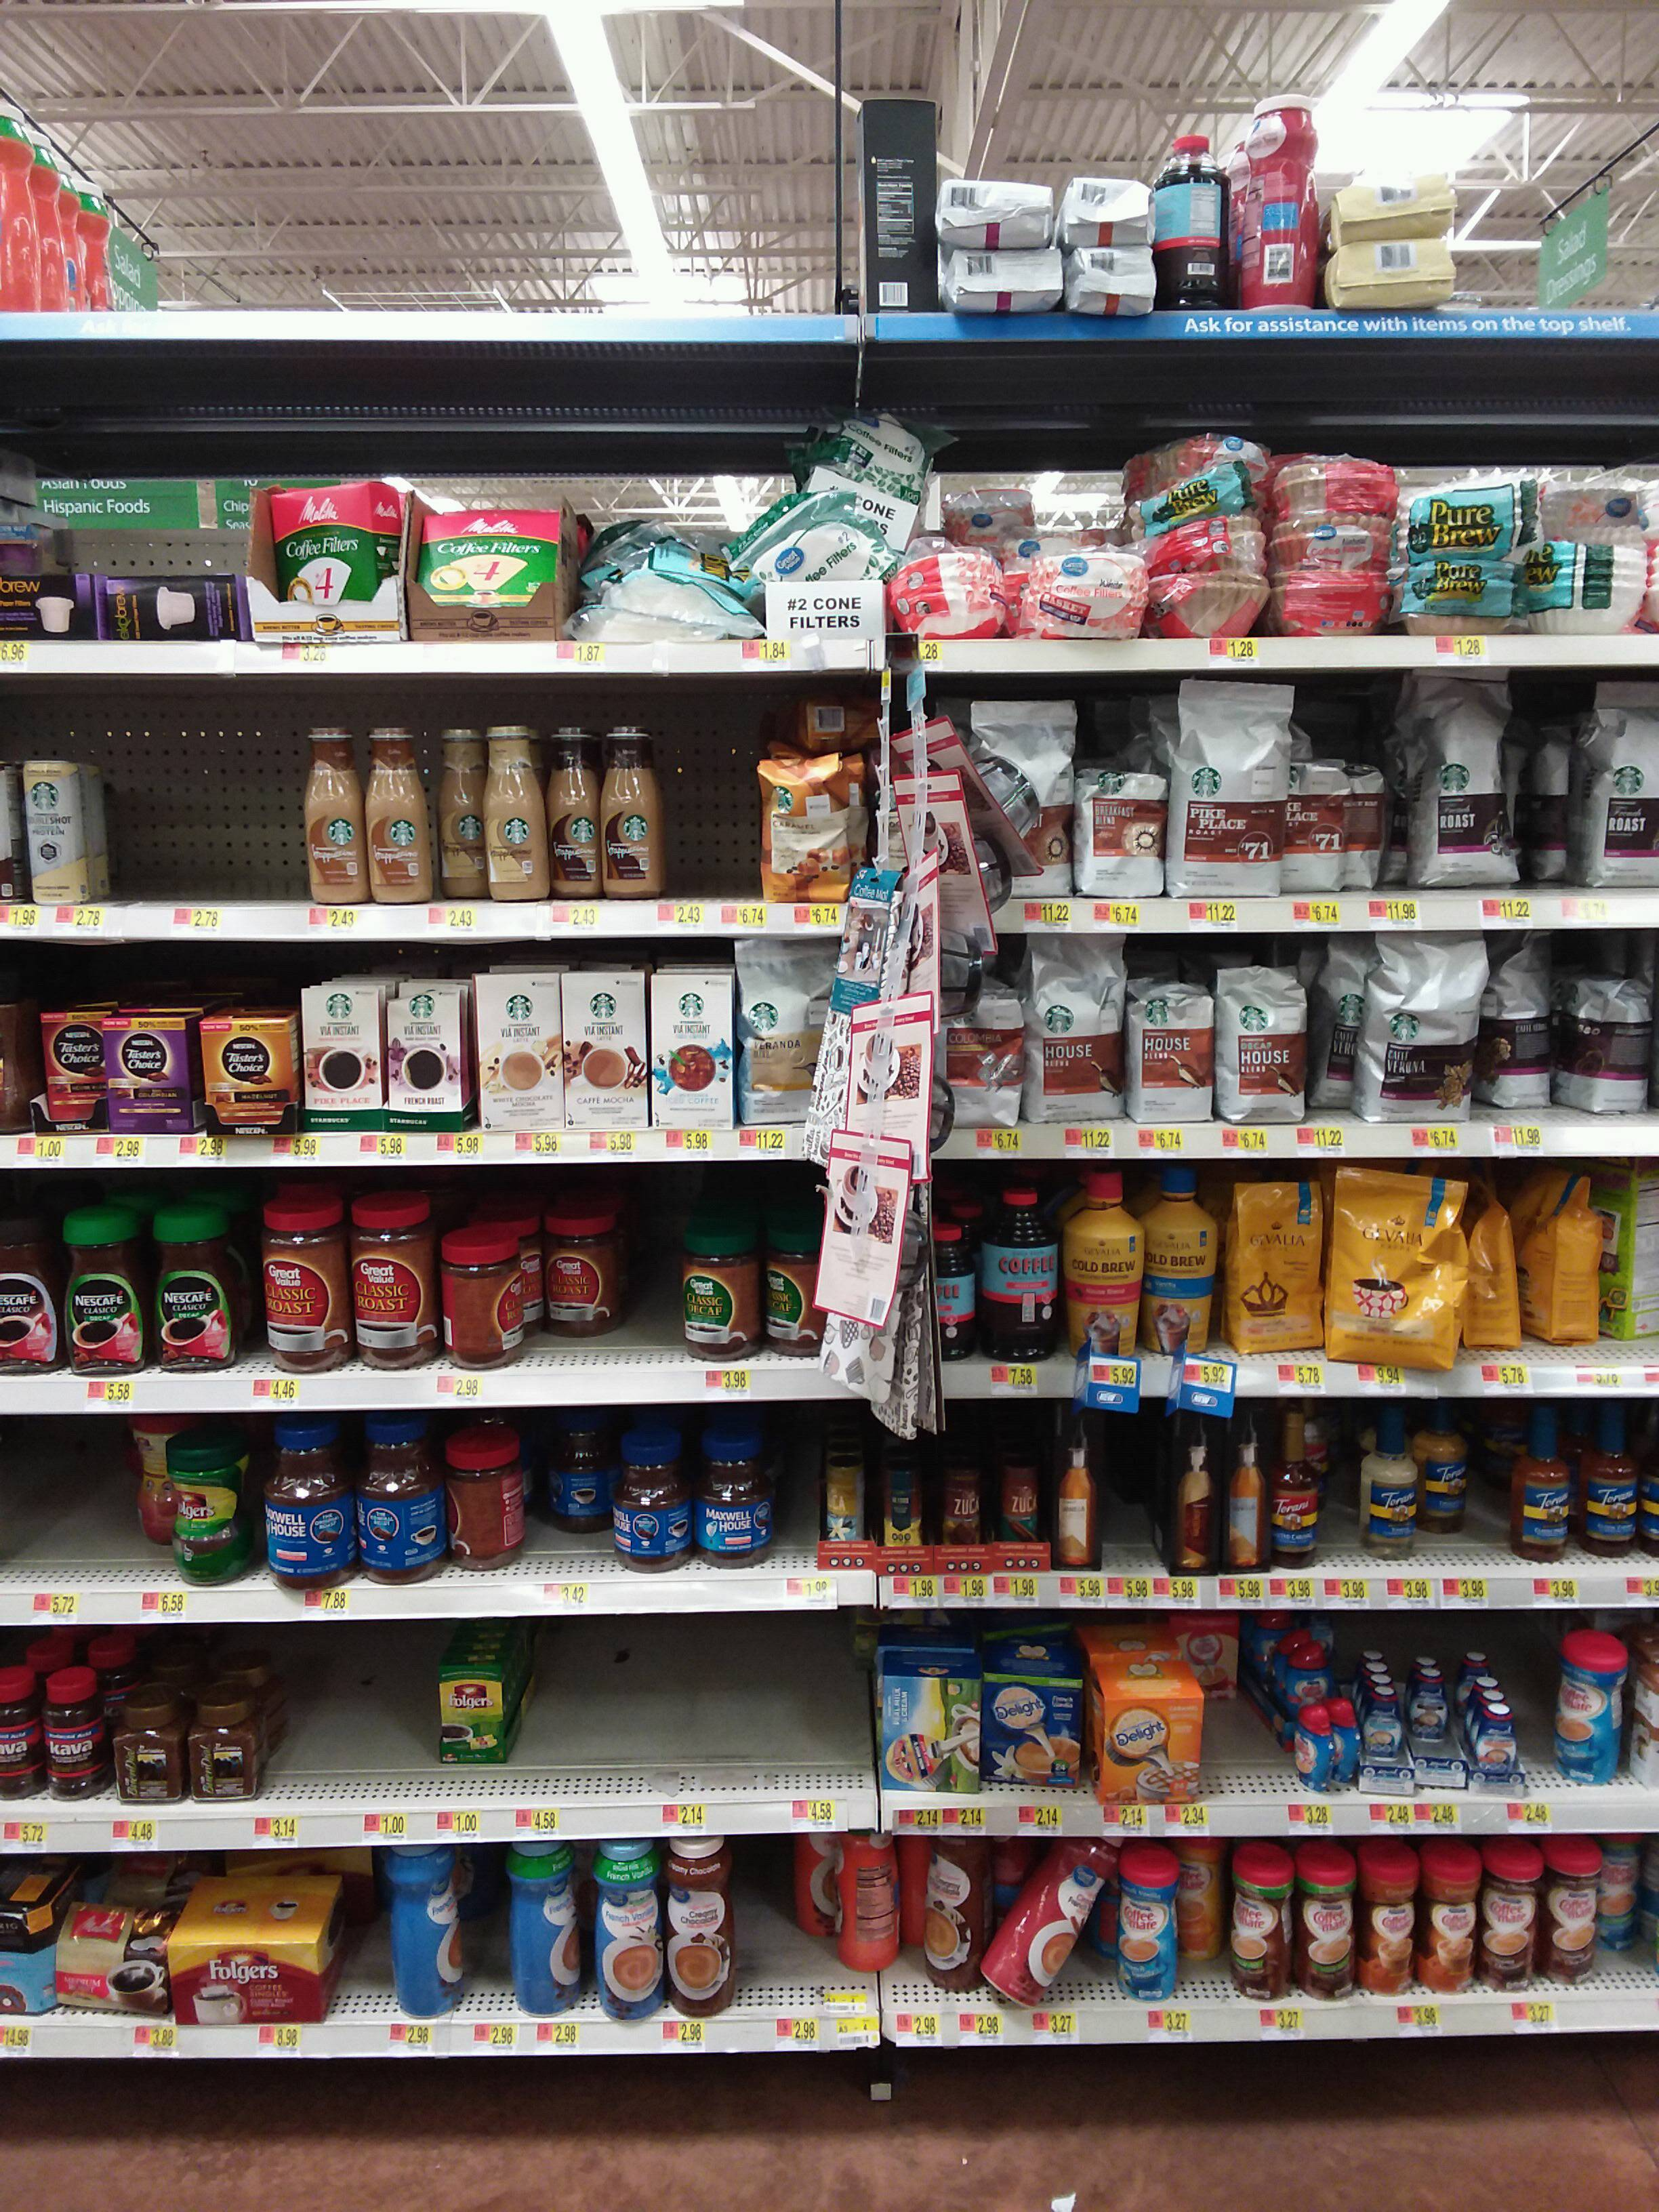Misplacement: (533, 1407, 619, 1581)
Out-of-stock: (540, 1615, 850, 1803)
